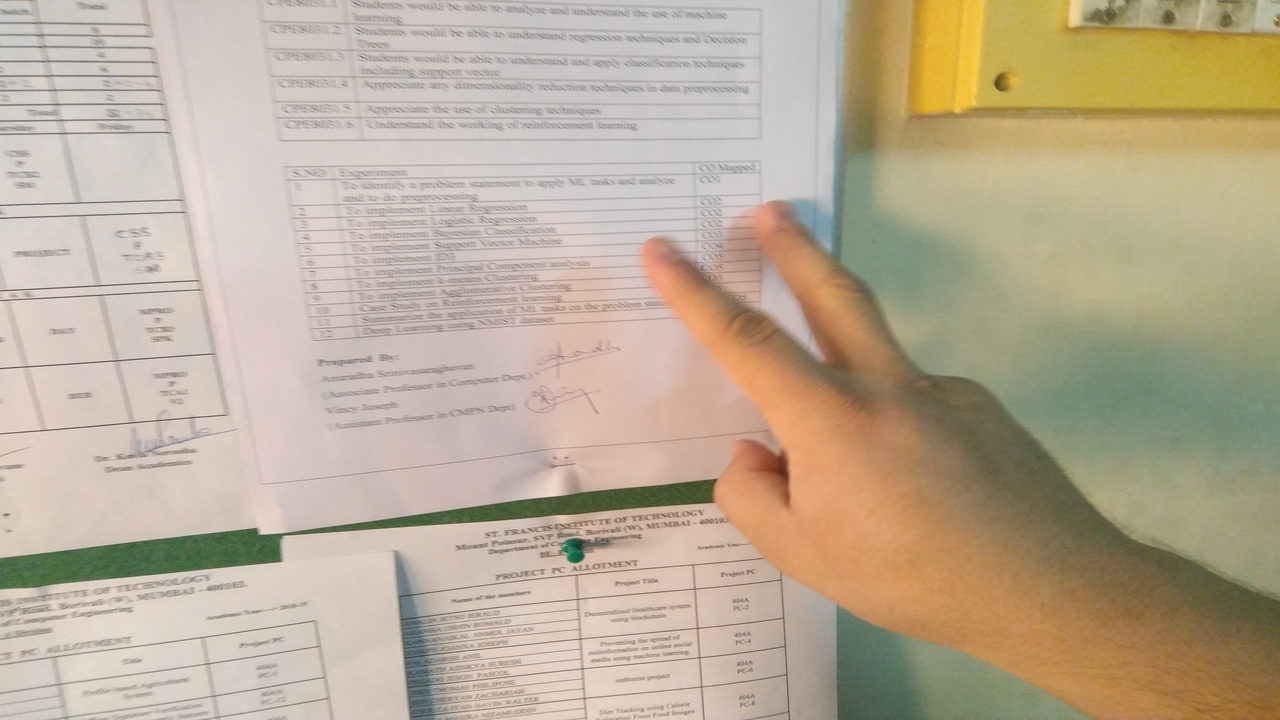fingertip: (632, 230, 688, 276), (748, 195, 804, 235)
